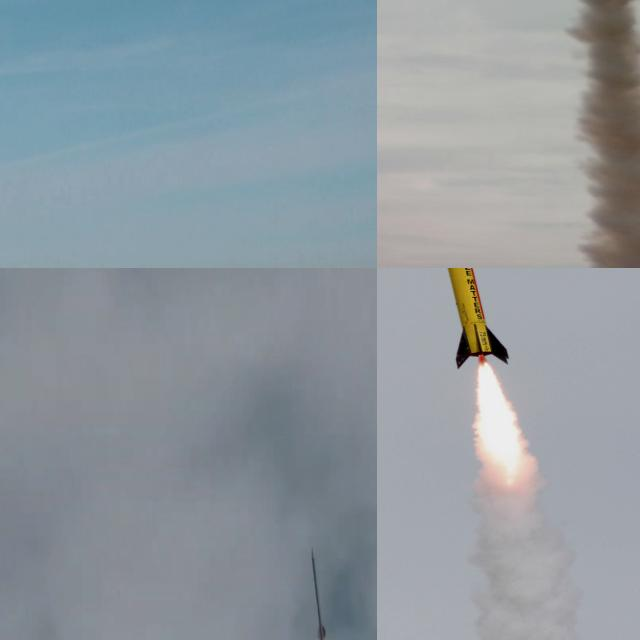Rocket: (437, 268, 512, 369), (311, 547, 326, 640)
